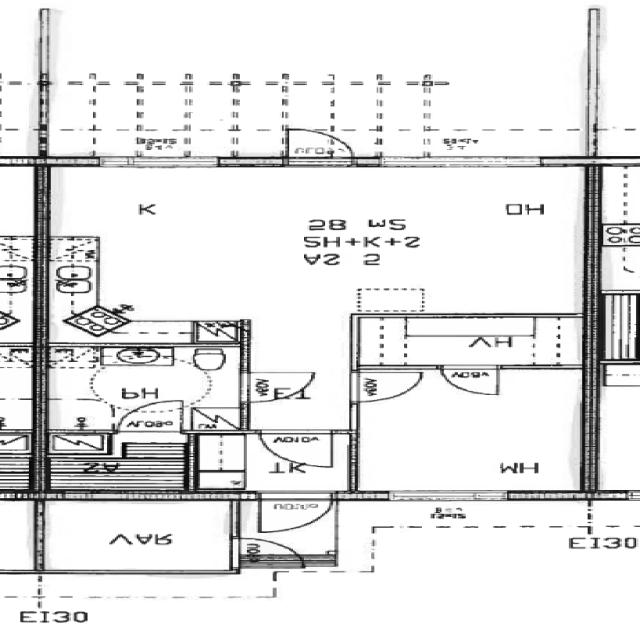door: (356, 364, 590, 489), (252, 429, 342, 470), (253, 490, 335, 534), (275, 127, 365, 166), (239, 369, 320, 405), (346, 369, 427, 404), (109, 400, 191, 434), (438, 364, 504, 398), (228, 536, 300, 564)
window: (370, 152, 544, 172), (90, 152, 230, 172), (380, 488, 516, 503), (31, 0, 70, 18)
zone: (35, 164, 594, 328), (354, 366, 590, 493), (36, 341, 245, 430), (36, 499, 236, 574), (343, 316, 588, 367), (42, 431, 196, 495), (240, 371, 314, 406)
